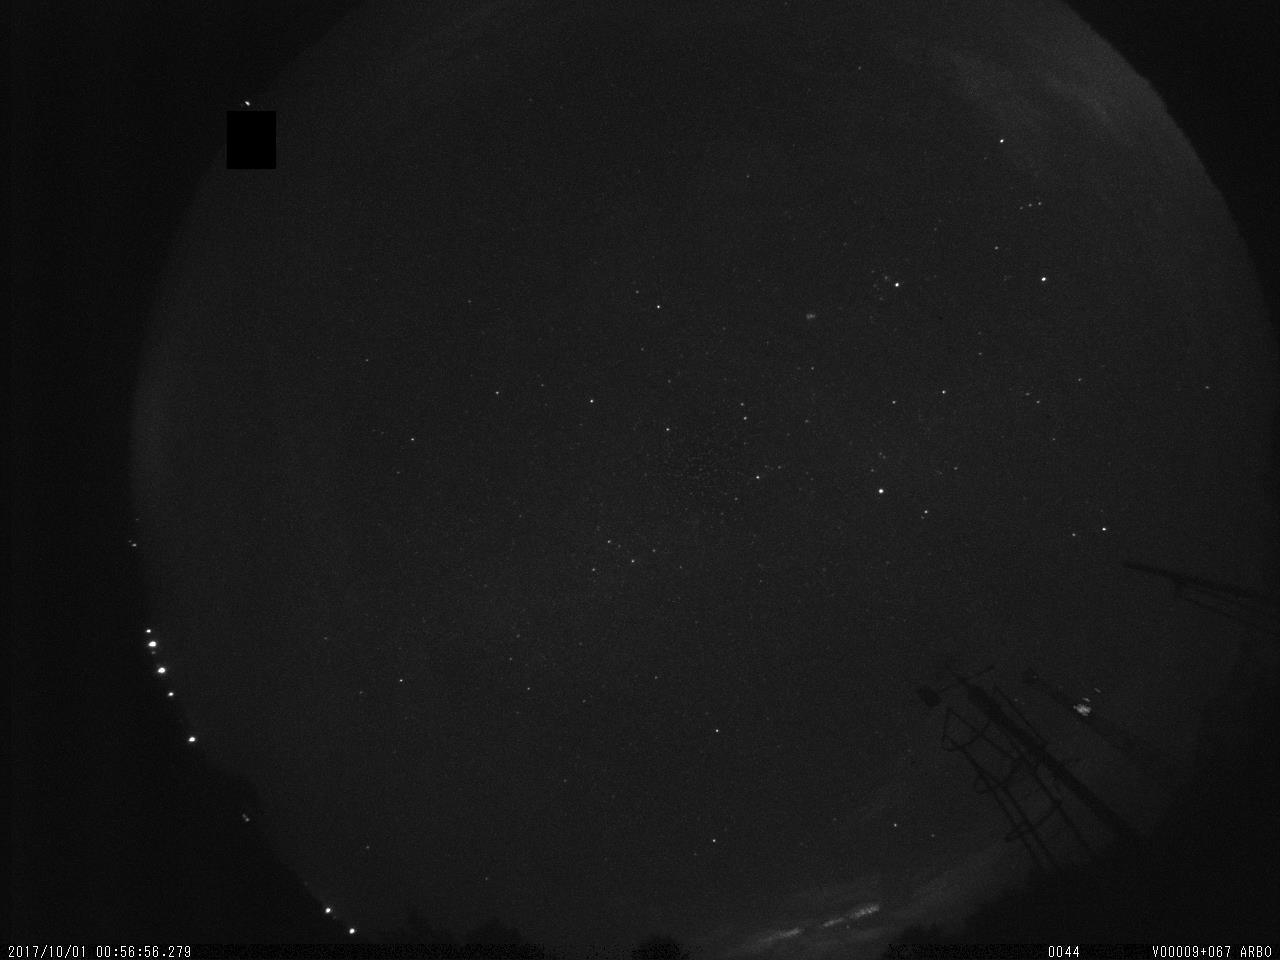TLE: (1056, 683, 1104, 738)
